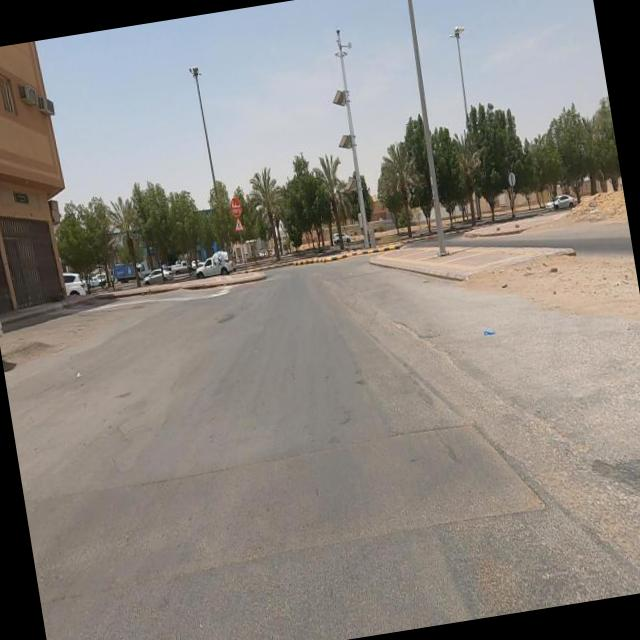debris: (52, 335, 111, 419), (458, 299, 524, 365)
